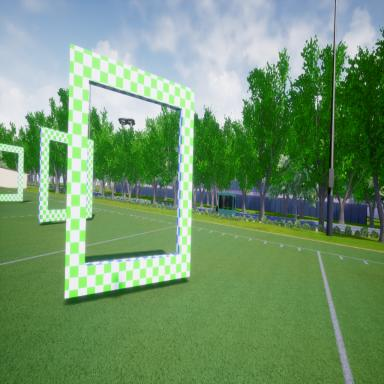gate: (63, 42, 197, 302), (36, 123, 95, 221), (0, 141, 25, 204)
